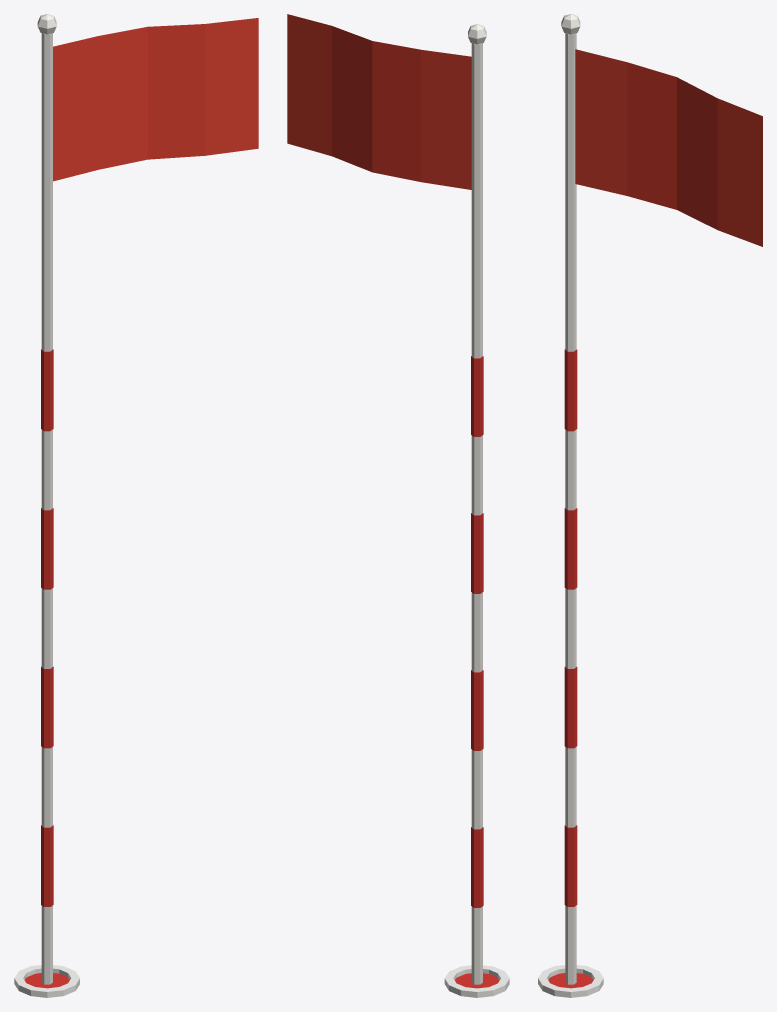
File: prop_flagpole.glb
3 views of the same model, side by side, from view 1: azimuth 30°, elevation 25°; view 2: azimuth 150°, elevation 25°; view 3: azimuth 330°, elevation 25° (orthographic).
Visible parts, largest first — view 1: prop_flagpole; view 2: prop_flagpole; view 3: prop_flagpole.
Boxes of the visible parts, box(x1,y1,x2,y2) form: prop_flagpole: box(14, 14, 258, 997); prop_flagpole: box(287, 14, 509, 997); prop_flagpole: box(538, 14, 762, 997).
Bounding box in the file's own units: 0.607 × 2.45 × 0.15.
